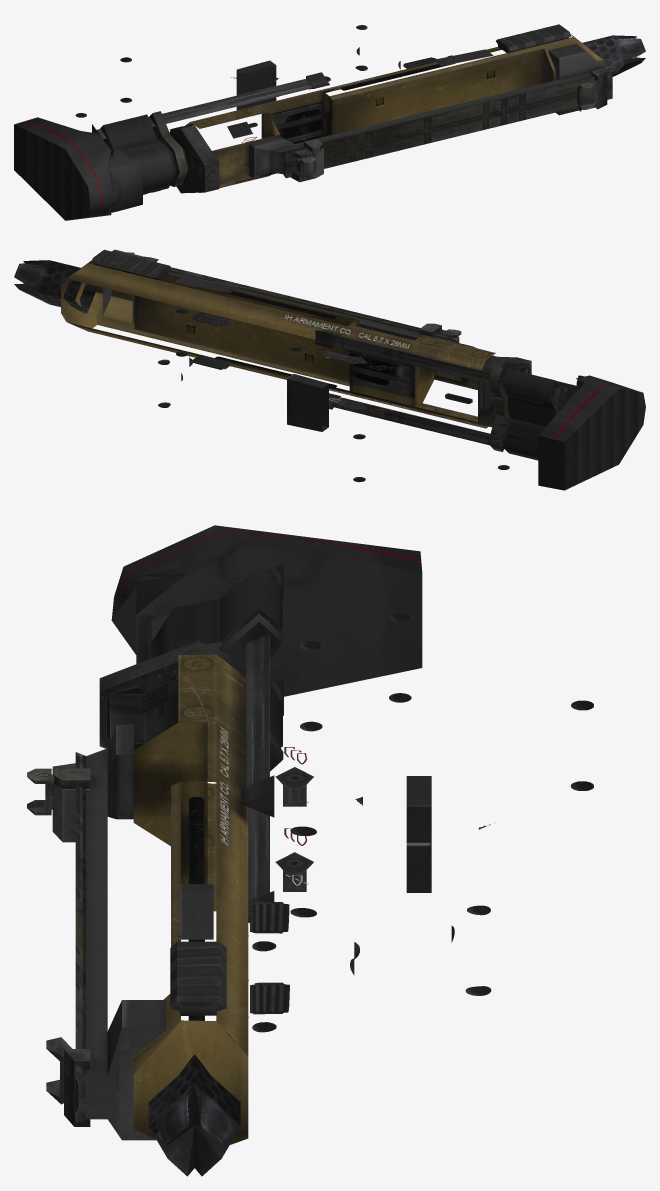
Rendered from t6_wpn_smg_pdw57_world_LOD1.obj.
The picture shows the model from 3 angles, top to bottom: view 1: azimuth 30°, elevation 25°; view 2: azimuth 150°, elevation 25°; view 3: azimuth 270°, elevation 25°; orthographic projection. The views are drawn at different scales.
Visible parts, largest first — view 1: mtl_t6_wpn_smg_pdw57_camo2, mtl_t6_wpn_smg_pdw57_camo1, mtl_t6_wpn_smg_pdw57_camo3, mtl_t6_wpn_smg_pdw57_camo4; view 2: mtl_t6_wpn_smg_pdw57_camo1, mtl_t6_wpn_smg_pdw57_camo2, mtl_t6_wpn_smg_pdw57_camo3, mtl_t6_wpn_smg_pdw57_camo4; view 3: mtl_t6_wpn_smg_pdw57_camo2, mtl_t6_wpn_smg_pdw57_camo1, mtl_t6_wpn_smg_pdw57_camo3, mtl_t6_wpn_smg_pdw57_camo4.
Part boxes in pixels (box(x1,y1,x2,y2)): mtl_t6_wpn_smg_pdw57_camo2: box(14, 35, 645, 220); mtl_t6_wpn_smg_pdw57_camo1: box(185, 34, 603, 192); mtl_t6_wpn_smg_pdw57_camo3: box(75, 24, 623, 192); mtl_t6_wpn_smg_pdw57_camo4: box(233, 63, 455, 183); mtl_t6_wpn_smg_pdw57_camo1: box(61, 260, 495, 428); mtl_t6_wpn_smg_pdw57_camo2: box(14, 252, 645, 490); mtl_t6_wpn_smg_pdw57_camo3: box(37, 249, 561, 482); mtl_t6_wpn_smg_pdw57_camo4: box(215, 290, 472, 403); mtl_t6_wpn_smg_pdw57_camo2: box(27, 525, 490, 1176); mtl_t6_wpn_smg_pdw57_camo1: box(133, 654, 248, 1144); mtl_t6_wpn_smg_pdw57_camo3: box(54, 572, 593, 1125); mtl_t6_wpn_smg_pdw57_camo4: box(158, 703, 205, 1020).
Size of the model in its own units: 50.1 by 7.01 by 23.11.
